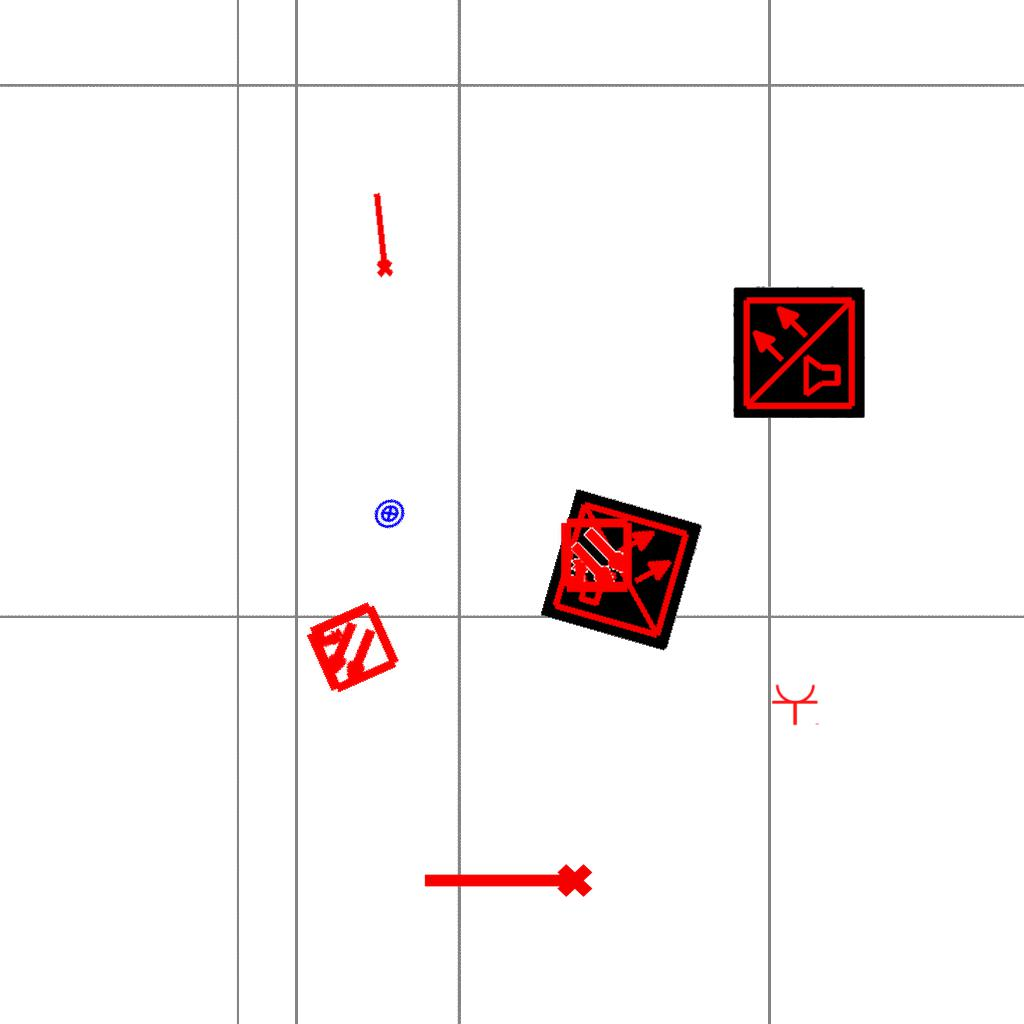ASR_Ansaugoeffnung: (419, 860, 595, 906), (363, 189, 397, 280)
OKW_Multisensormelder_(Kombination_optischer_Rauch-Kahlenmonoxid_Waerme-Melder): (540, 488, 704, 652), (733, 286, 865, 418)
OT_Multisensormelder_(Kombination_RMO_WMD): (275, 573, 426, 724), (540, 501, 653, 614)
Schukosteckdose_einfach: (771, 683, 821, 726)
Taster_beleuchtet: (366, 490, 413, 537)
